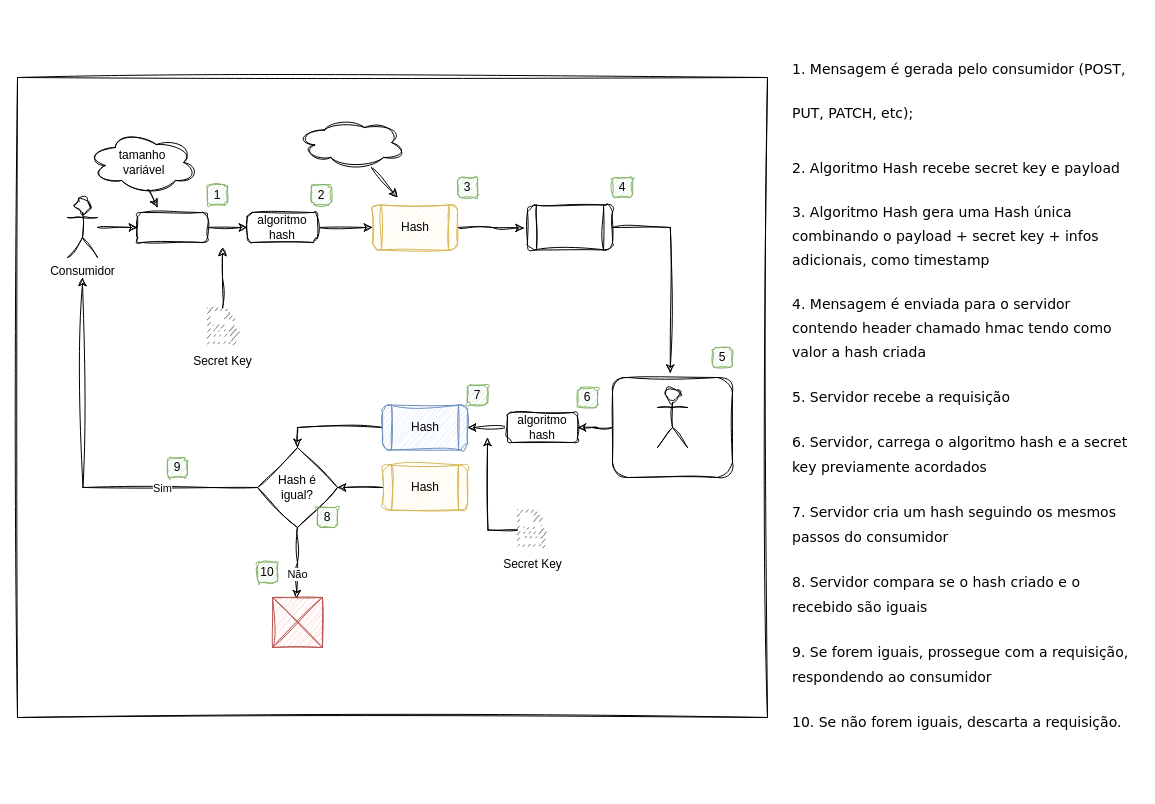
This 1155x804 diagram has some shape labels left out. The shapes that lost their labels are listed below. From the top down, each one's centre as x and y in pixels, then its label:
At (x=350, y=142): "tamanho fixo".
At (x=172, y=227): "payload".
At (x=569, y=227): "Hash no header + payload".
At (x=672, y=417): "Servidor / Provedor".
At (x=297, y=622): "Lixo".
